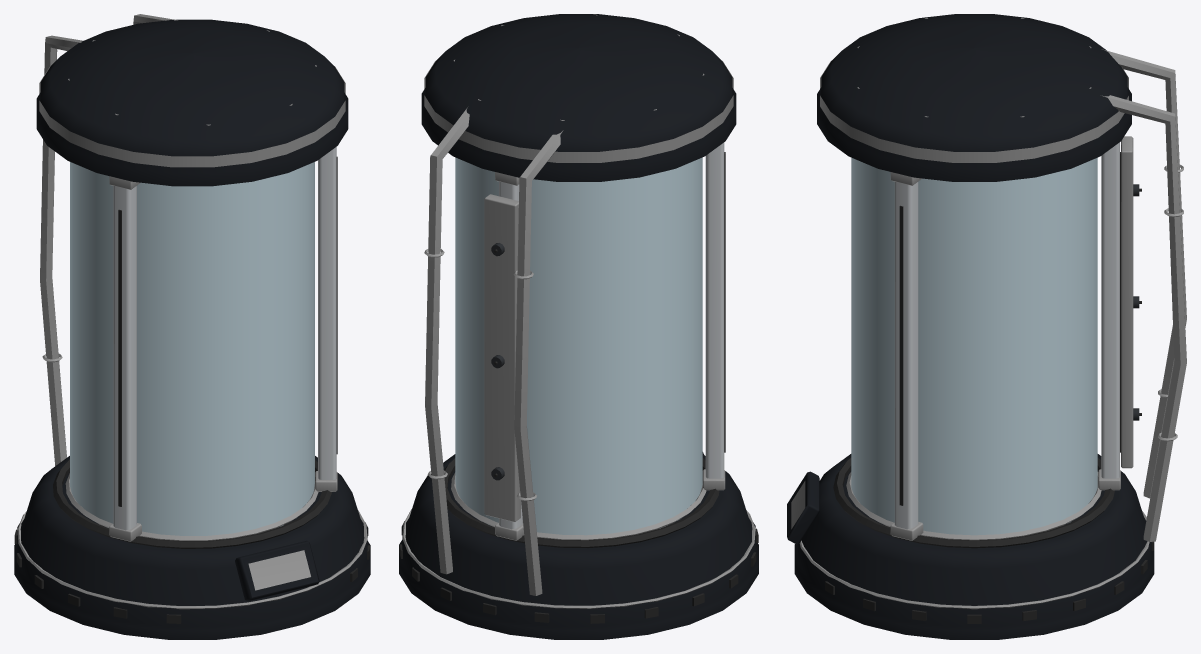
Rendered from CryoPod_Empty.fbx.
The picture shows the model from 3 angles, left to right: view 1: azimuth 30°, elevation 25°; view 2: azimuth 150°, elevation 25°; view 3: azimuth 270°, elevation 25°; orthographic projection.
Visible parts, largest first — view 1: CryoPod_Empty_LOD0; view 2: CryoPod_Empty_LOD0; view 3: CryoPod_Empty_LOD0.
Boxes of the visible parts, x1=… form: CryoPod_Empty_LOD0: x1=14, y1=14, x2=370, y2=639; CryoPod_Empty_LOD0: x1=399, y1=14, x2=758, y2=639; CryoPod_Empty_LOD0: x1=787, y1=14, x2=1186, y2=639.
Size of what is drawn, in the model's own units: 1.74 by 2.76 by 1.94.
